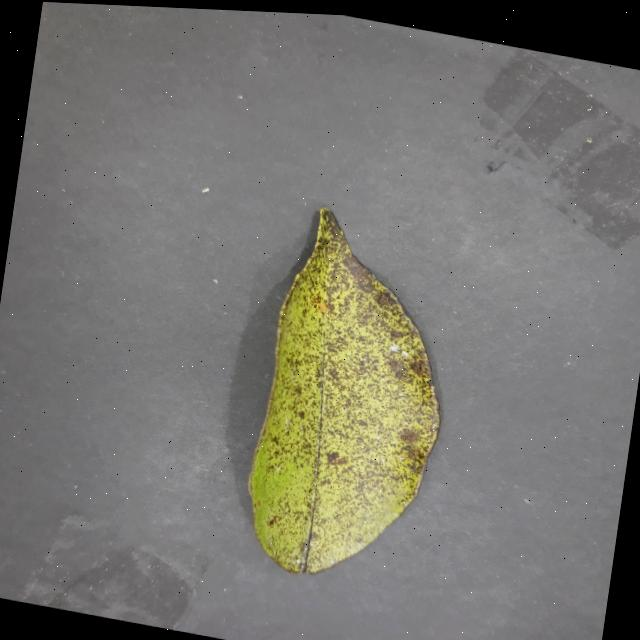greasy_spot: (248, 209, 439, 573)
